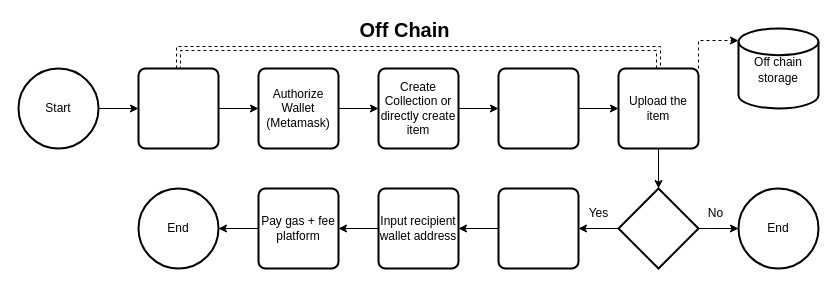
This 836x287 diagram has some shape labels left out. The centre of each missing label's shape, as x and y in pixels:
"Fill the item data" goes at [538,108].
"Need on - chain Data?" goes at [658,228].
"Open OpenSea" goes at [178,108].
"Transfer Item" goes at [538,228].
